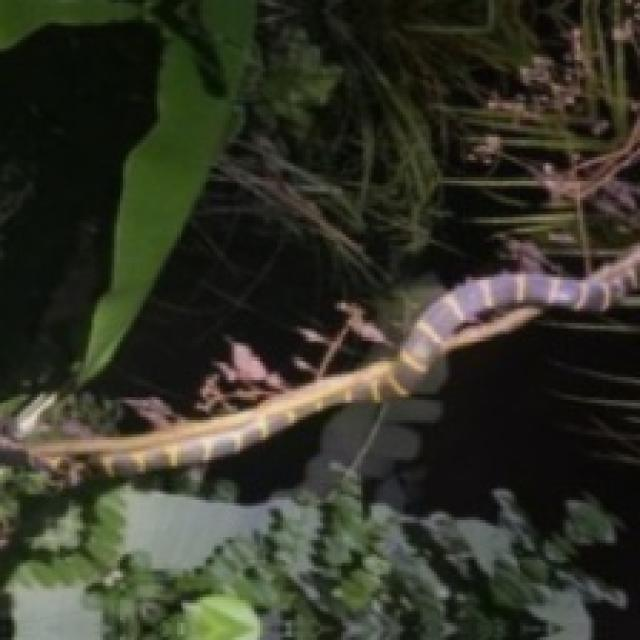mangrove cat snake: (25, 246, 640, 479)
